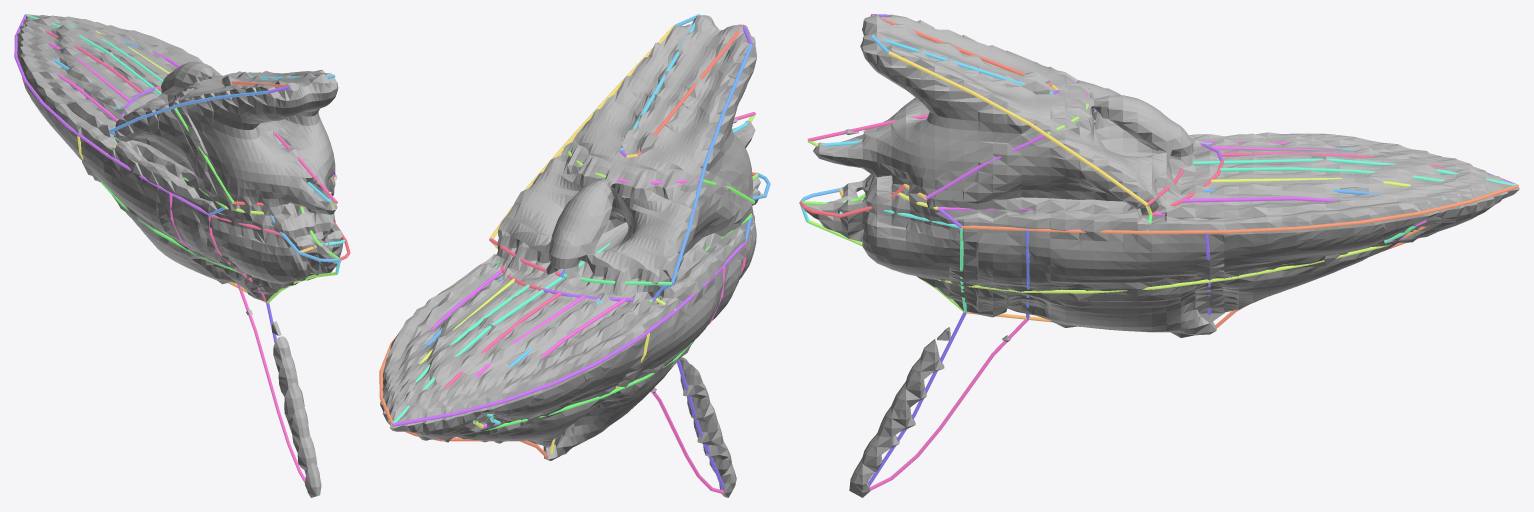
Rendered from ils_boat.gltf.
3 renders of one model, left to right at view 1: azimuth 30°, elevation 25°; view 2: azimuth 150°, elevation 25°; view 3: azimuth 270°, elevation 25°, orthographic. The views are drawn at different scales.
Size of the model in its own units: 0.2458 by 0.575 by 0.7925.
